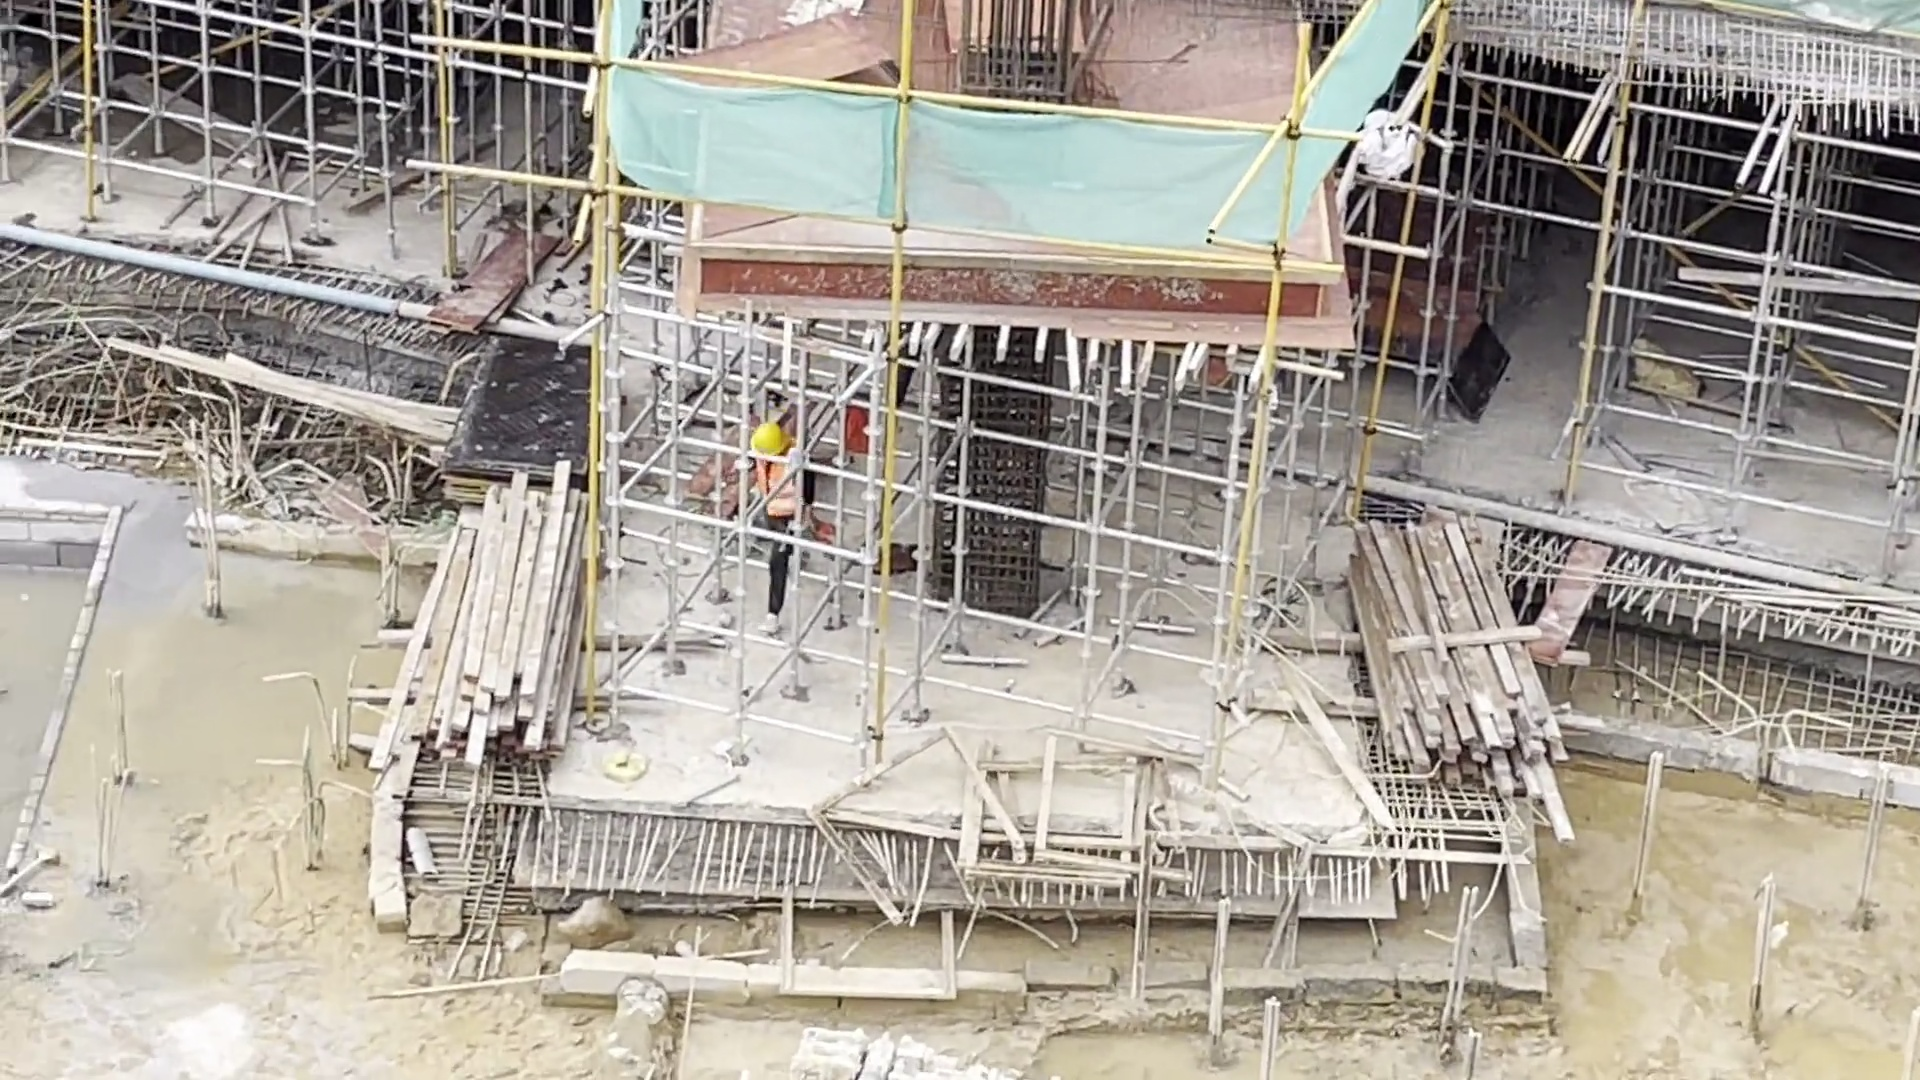board: (435, 332, 608, 501)
helmet: (752, 420, 791, 457)
person: (744, 416, 833, 636)
wood: (1353, 510, 1580, 841), (369, 456, 602, 766)
